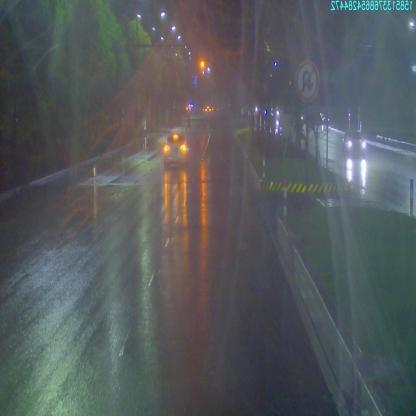traffic-light: (199, 57, 206, 68)
